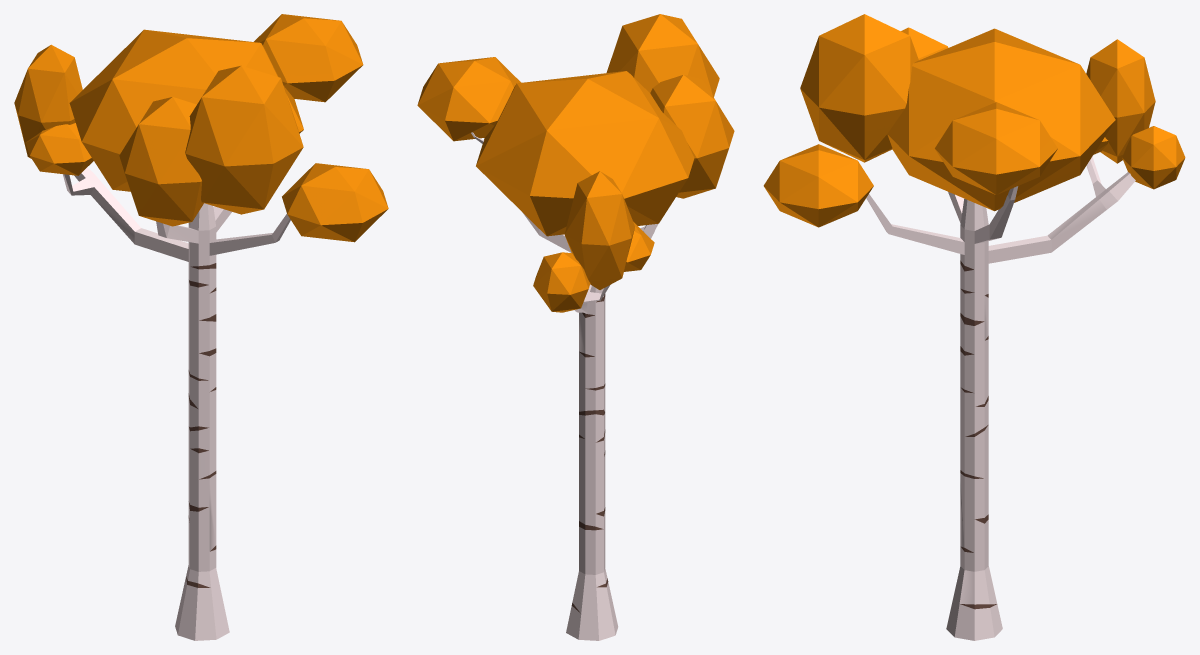
Rendered from Tree_1.FBX.
3 renders of one model, left to right at view 1: azimuth 30°, elevation 25°; view 2: azimuth 150°, elevation 25°; view 3: azimuth 270°, elevation 25°, orthographic. The views are drawn at different scales.
Parts seen in each view (by area): view 1: Tree_1; view 2: Tree_1; view 3: Tree_1.
Part boxes in pixels (x1,y1,x2,y2): Tree_1: (14,14,388,640); Tree_1: (417,14,734,640); Tree_1: (763,14,1185,640).
Size of the model in its own units: 274 by 564 by 355.
